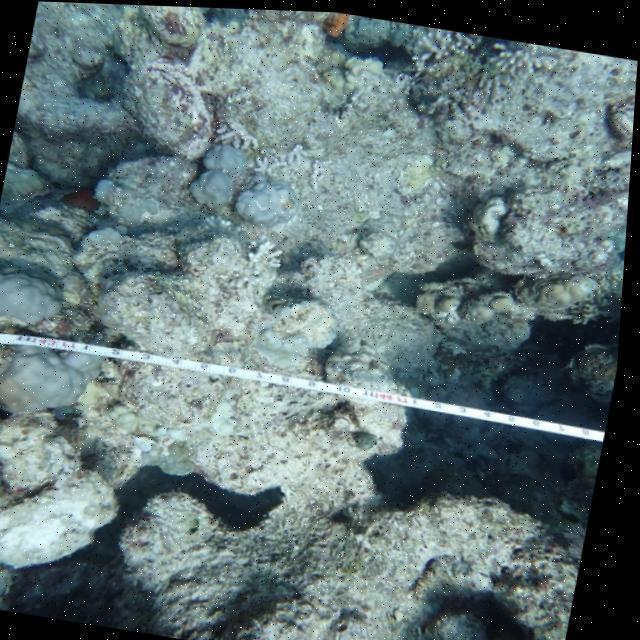Bleached Coral: (397, 21, 549, 100)
